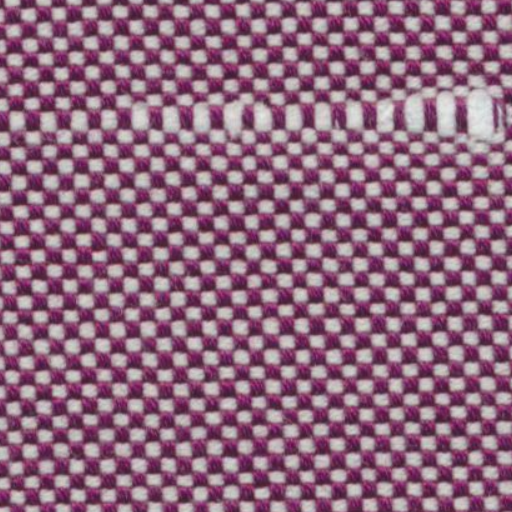DaiSha: (16, 78, 500, 171)
